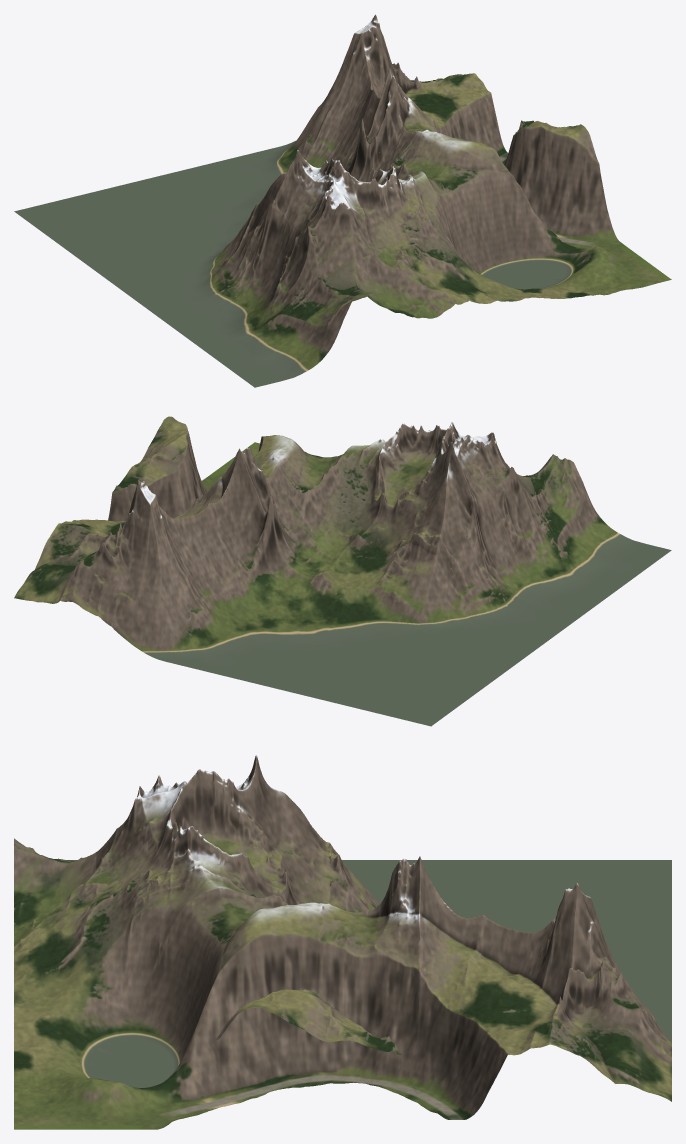
3 views of the same model, one above another, from view 1: azimuth 30°, elevation 25°; view 2: azimuth 150°, elevation 25°; view 3: azimuth 270°, elevation 25° (orthographic). The views are drawn at different scales.
Visible parts, largest first — view 1: Terrain 00.0, Terrain 00.6, Terrain 00.4, Terrain 00.5, Terrain 00.2, Terrain 00.3, Terrain 00.7, Terrain 00.1; view 2: Terrain 00.0, Terrain 00.3, Terrain 00.4, Terrain 00.1, Terrain 00.2, Terrain 00.5, Terrain 00.6; view 3: Terrain 00.6, Terrain 00.0, Terrain 00.2, Terrain 00.7, Terrain 00.5, Terrain 00.1, Terrain 00.3, Terrain 00.4.
Part boxes in pixels (box(x1,y1,x2,y2)): Terrain 00.0: box(14, 31, 434, 299); Terrain 00.6: box(398, 121, 611, 276); Terrain 00.4: box(195, 166, 402, 387); Terrain 00.5: box(331, 129, 475, 318); Terrain 00.2: box(135, 68, 549, 321); Terrain 00.3: box(165, 150, 344, 343); Terrain 00.7: box(433, 225, 671, 303); Terrain 00.1: box(335, 14, 490, 181); Terrain 00.0: box(14, 494, 550, 726); Terrain 00.3: box(343, 422, 611, 616); Terrain 00.4: box(373, 423, 671, 594); Terrain 00.1: box(29, 459, 342, 624); Terrain 00.2: box(77, 447, 580, 638); Terrain 00.5: box(254, 425, 567, 549); Terrain 00.6: box(135, 416, 385, 512); Terrain 00.6: box(96, 842, 342, 1119); Terrain 00.0: box(343, 860, 671, 1101); Terrain 00.2: box(342, 856, 507, 1119); Terrain 00.7: box(14, 919, 178, 1129); Terrain 00.5: box(14, 822, 342, 969); Terrain 00.1: box(425, 870, 631, 1085); Terrain 00.3: box(178, 755, 342, 909); Terrain 00.4: box(14, 775, 260, 889).
Size of the model in its own units: 5000 by 1636 by 5000.
1 material, 1 textured.
